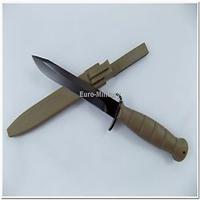knife: (28, 50, 187, 157)
